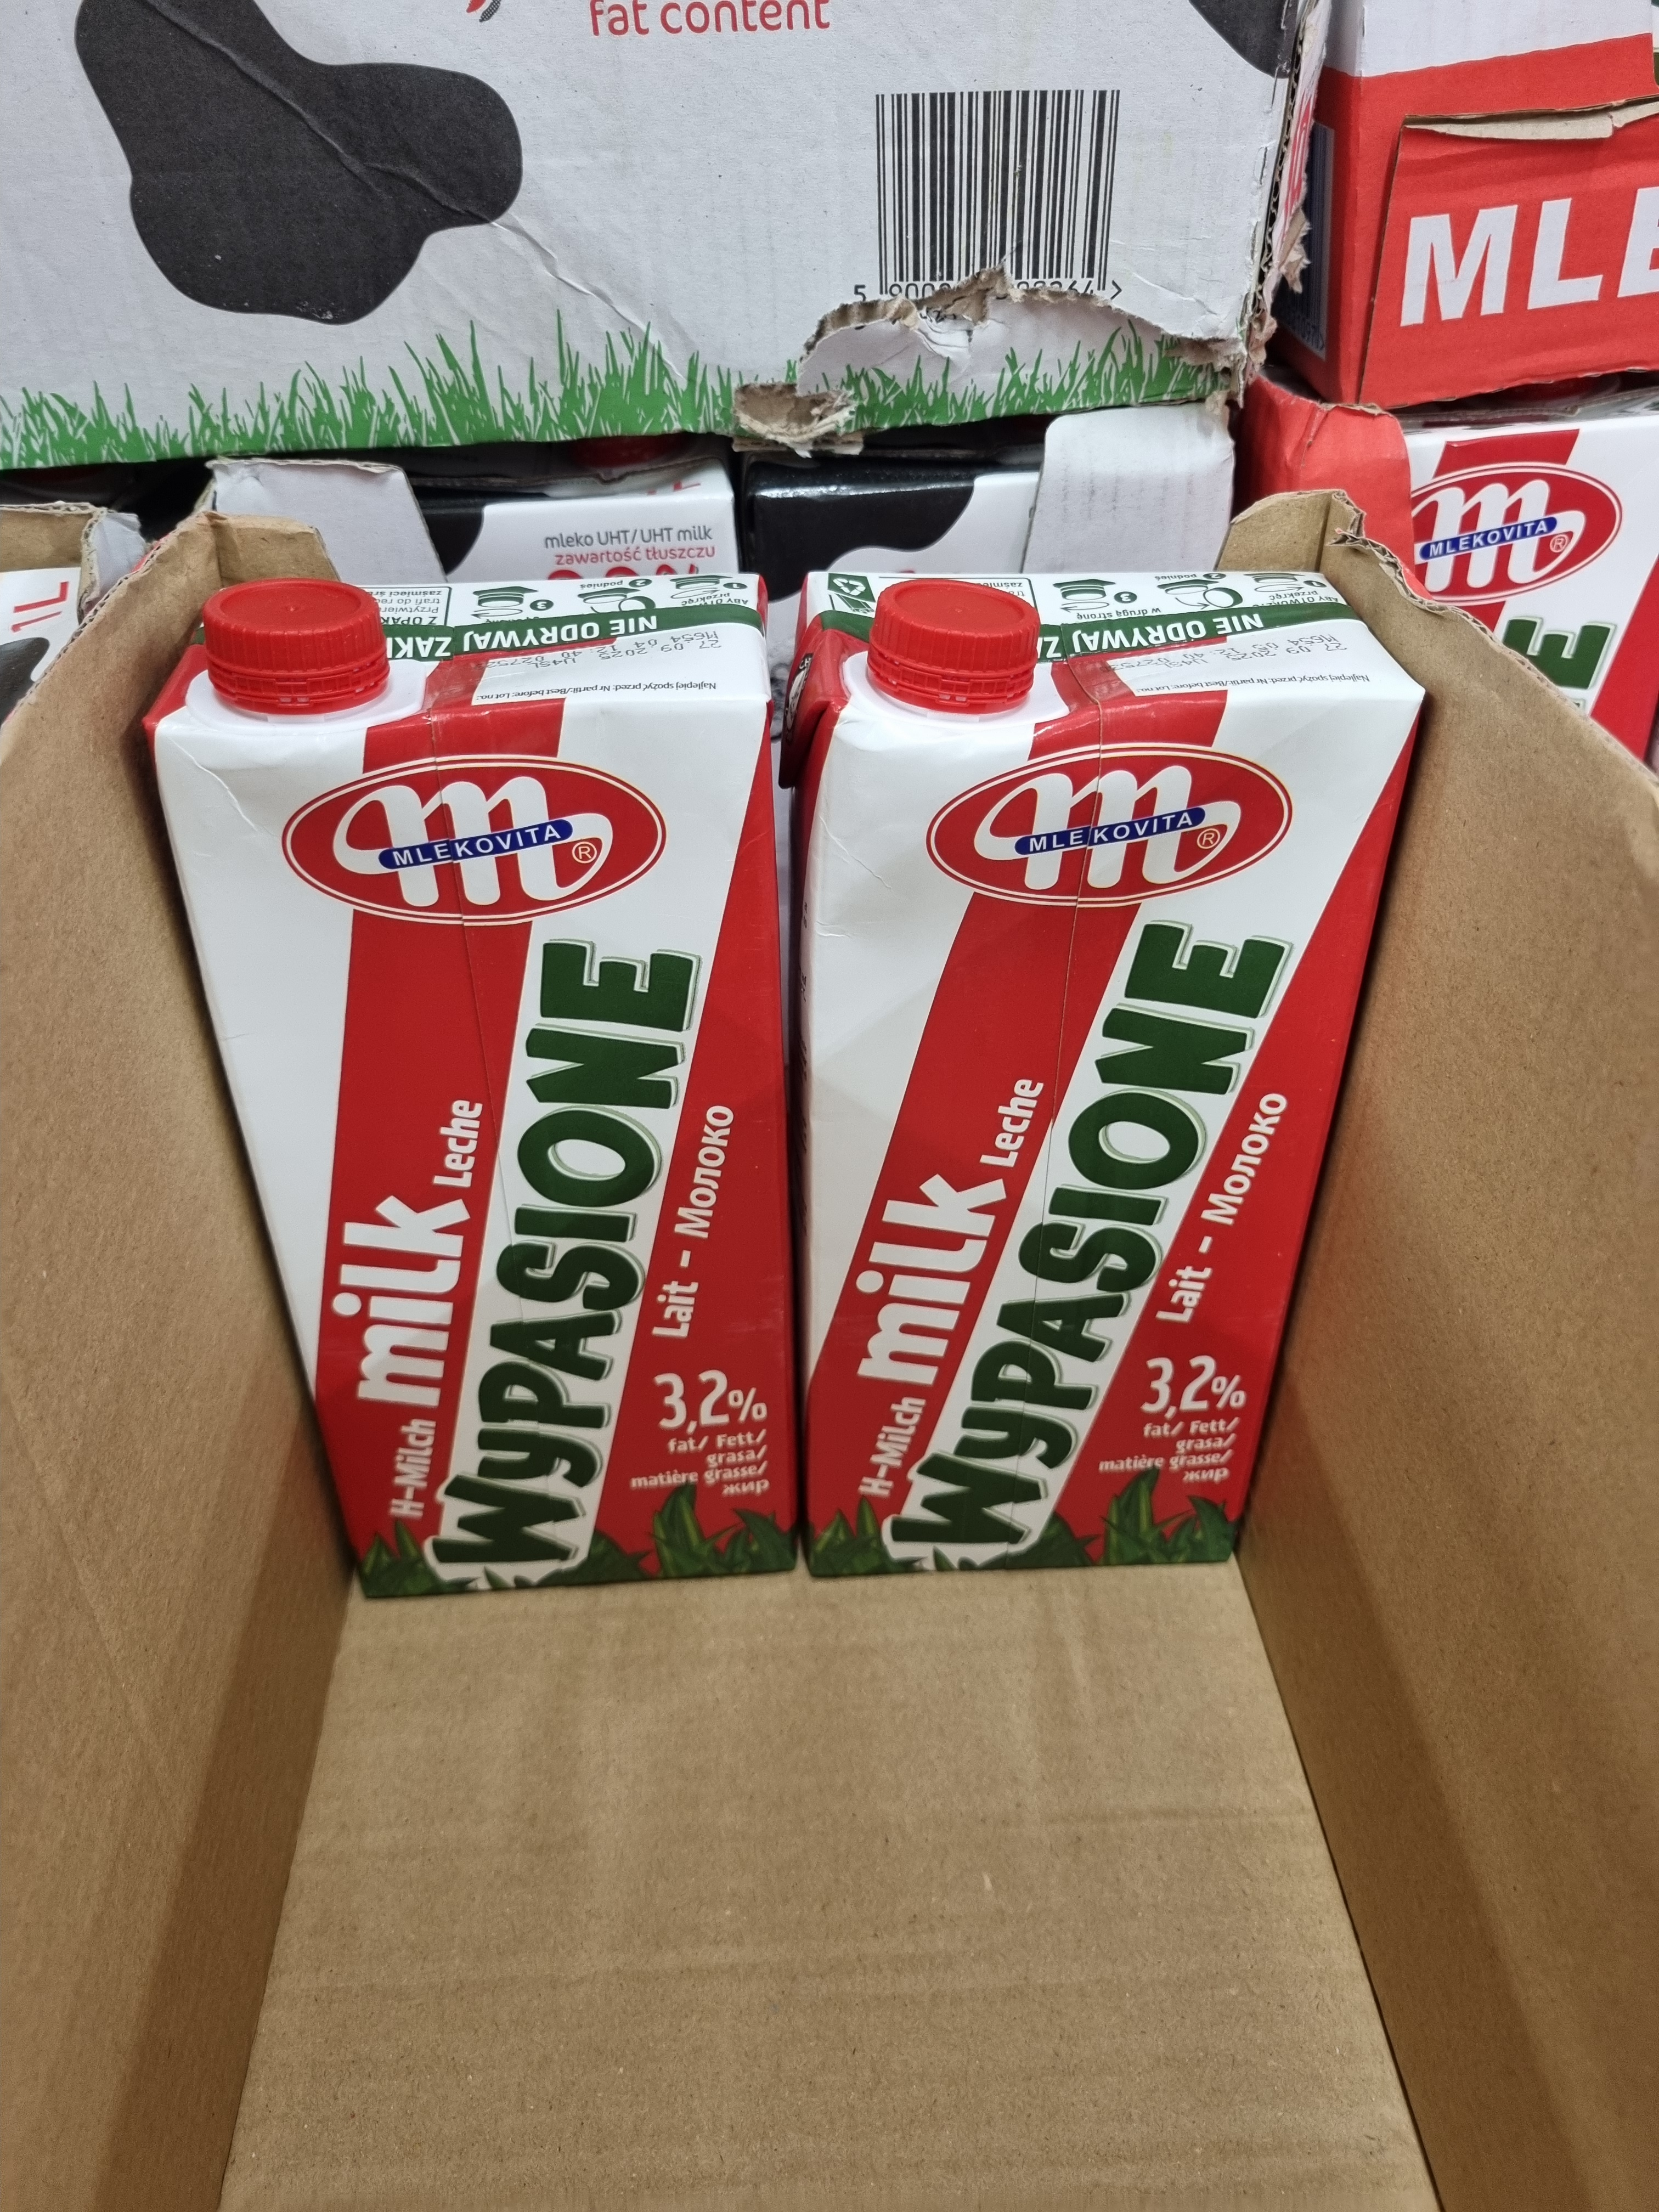Milk: (162, 571, 805, 1588), (789, 566, 1417, 1583)
